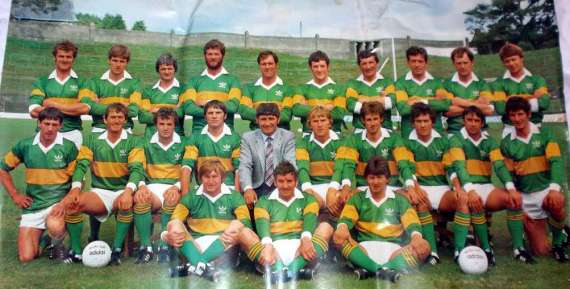player: (345, 153, 415, 274), (256, 163, 309, 281), (178, 157, 233, 263)
